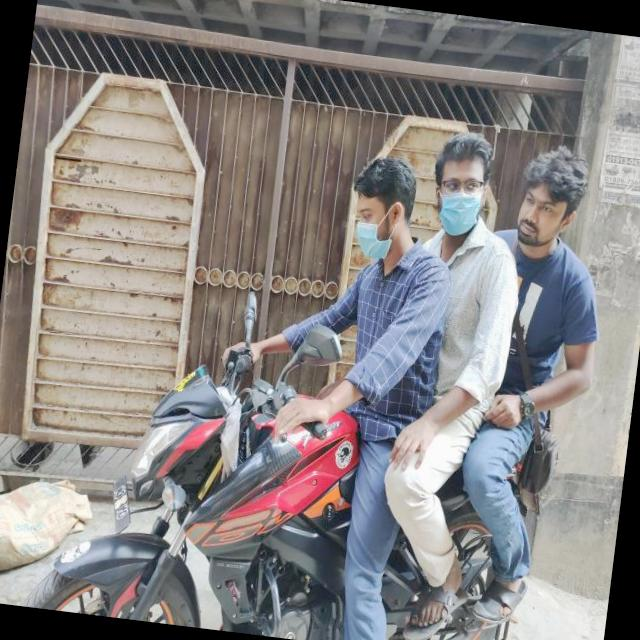motorcycle: (24, 337, 563, 640)
person: (444, 129, 626, 547), (376, 116, 545, 537), (306, 144, 469, 531)
rider_region: (23, 84, 623, 640)
